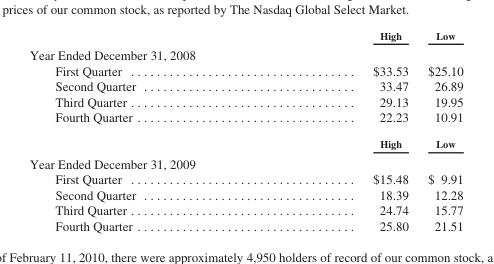table: (28, 29, 462, 232)
table column: (28, 29, 253, 232), (253, 29, 417, 232), (417, 29, 462, 232)
table column header: (28, 29, 462, 44)
table projected row header: (28, 152, 462, 171), (28, 44, 462, 62)
table row: (28, 130, 462, 152), (28, 109, 462, 130), (28, 152, 462, 171), (28, 44, 462, 62), (28, 62, 462, 78), (28, 93, 462, 109), (28, 186, 462, 202), (28, 29, 462, 44), (28, 78, 462, 93), (28, 171, 462, 186), (28, 202, 462, 217), (28, 217, 462, 232)
